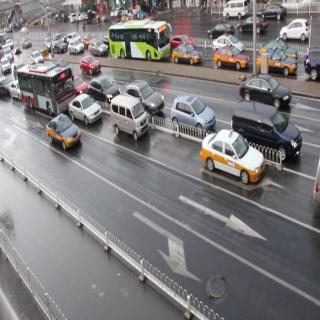BigCar: (110, 22, 172, 66), (18, 64, 65, 113)
Car: (235, 98, 302, 168), (197, 129, 262, 189), (240, 71, 292, 109), (171, 91, 215, 134), (111, 95, 148, 143), (128, 73, 164, 112), (68, 90, 100, 131), (46, 116, 81, 150), (210, 44, 247, 76), (256, 49, 295, 78), (170, 41, 202, 70), (280, 21, 311, 47), (93, 74, 119, 101), (223, 0, 246, 23), (237, 16, 262, 37), (205, 22, 234, 40), (261, 4, 282, 24), (89, 39, 109, 58), (82, 53, 100, 74), (67, 38, 83, 58), (172, 31, 194, 45), (34, 45, 44, 62)
